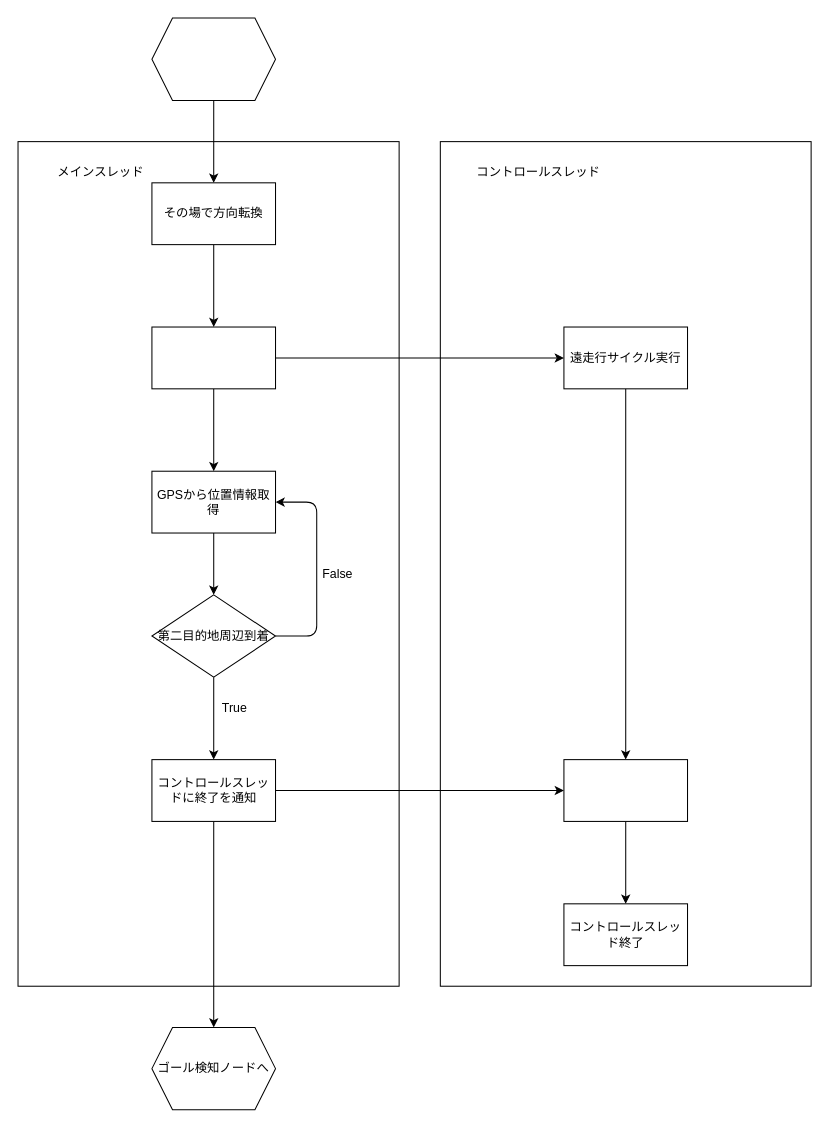
Some shapes in this 829 by 1128 pixel diagram are drawn without their labels. The box of each missing label's shape, as (x1, y1, x2, y2) in pixels:
コントロールスレッド起動: (151, 326, 276, 389)
スレッド終了の通知を受け取る: (563, 759, 688, 821)
子機分離ノード: (151, 17, 276, 100)
